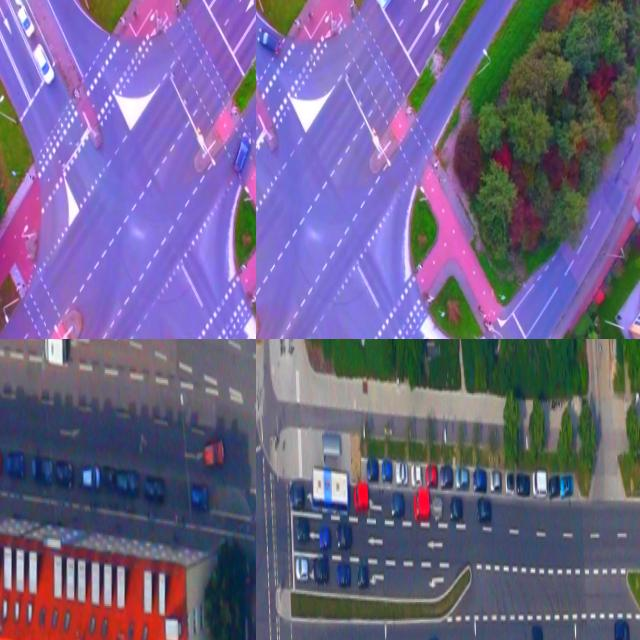UAI: (32, 42, 55, 85), (230, 131, 253, 174), (256, 25, 280, 55), (31, 457, 53, 487), (115, 469, 138, 497), (17, 3, 35, 38), (203, 439, 224, 469), (144, 475, 165, 503), (54, 459, 73, 489), (6, 451, 25, 479), (413, 490, 429, 522), (289, 477, 304, 509), (82, 465, 100, 491), (353, 482, 368, 512), (192, 484, 208, 512), (336, 522, 352, 550), (102, 462, 116, 493), (390, 489, 404, 518), (476, 495, 490, 524), (532, 468, 546, 497), (313, 557, 328, 584), (296, 516, 309, 543), (336, 562, 350, 586), (449, 496, 463, 520), (472, 468, 486, 492), (613, 620, 629, 640), (295, 557, 308, 581), (516, 472, 529, 495), (455, 467, 468, 490), (365, 458, 378, 481), (357, 564, 369, 588), (440, 464, 452, 488), (425, 463, 437, 487), (395, 462, 407, 485), (560, 475, 573, 496), (432, 495, 442, 522), (319, 526, 330, 550), (548, 475, 559, 499), (410, 462, 421, 486), (381, 459, 392, 482), (489, 470, 501, 491), (504, 470, 513, 493), (375, 0, 397, 9), (530, 624, 542, 640)
car: (311, 464, 349, 514)
harvester: (42, 339, 66, 368)
